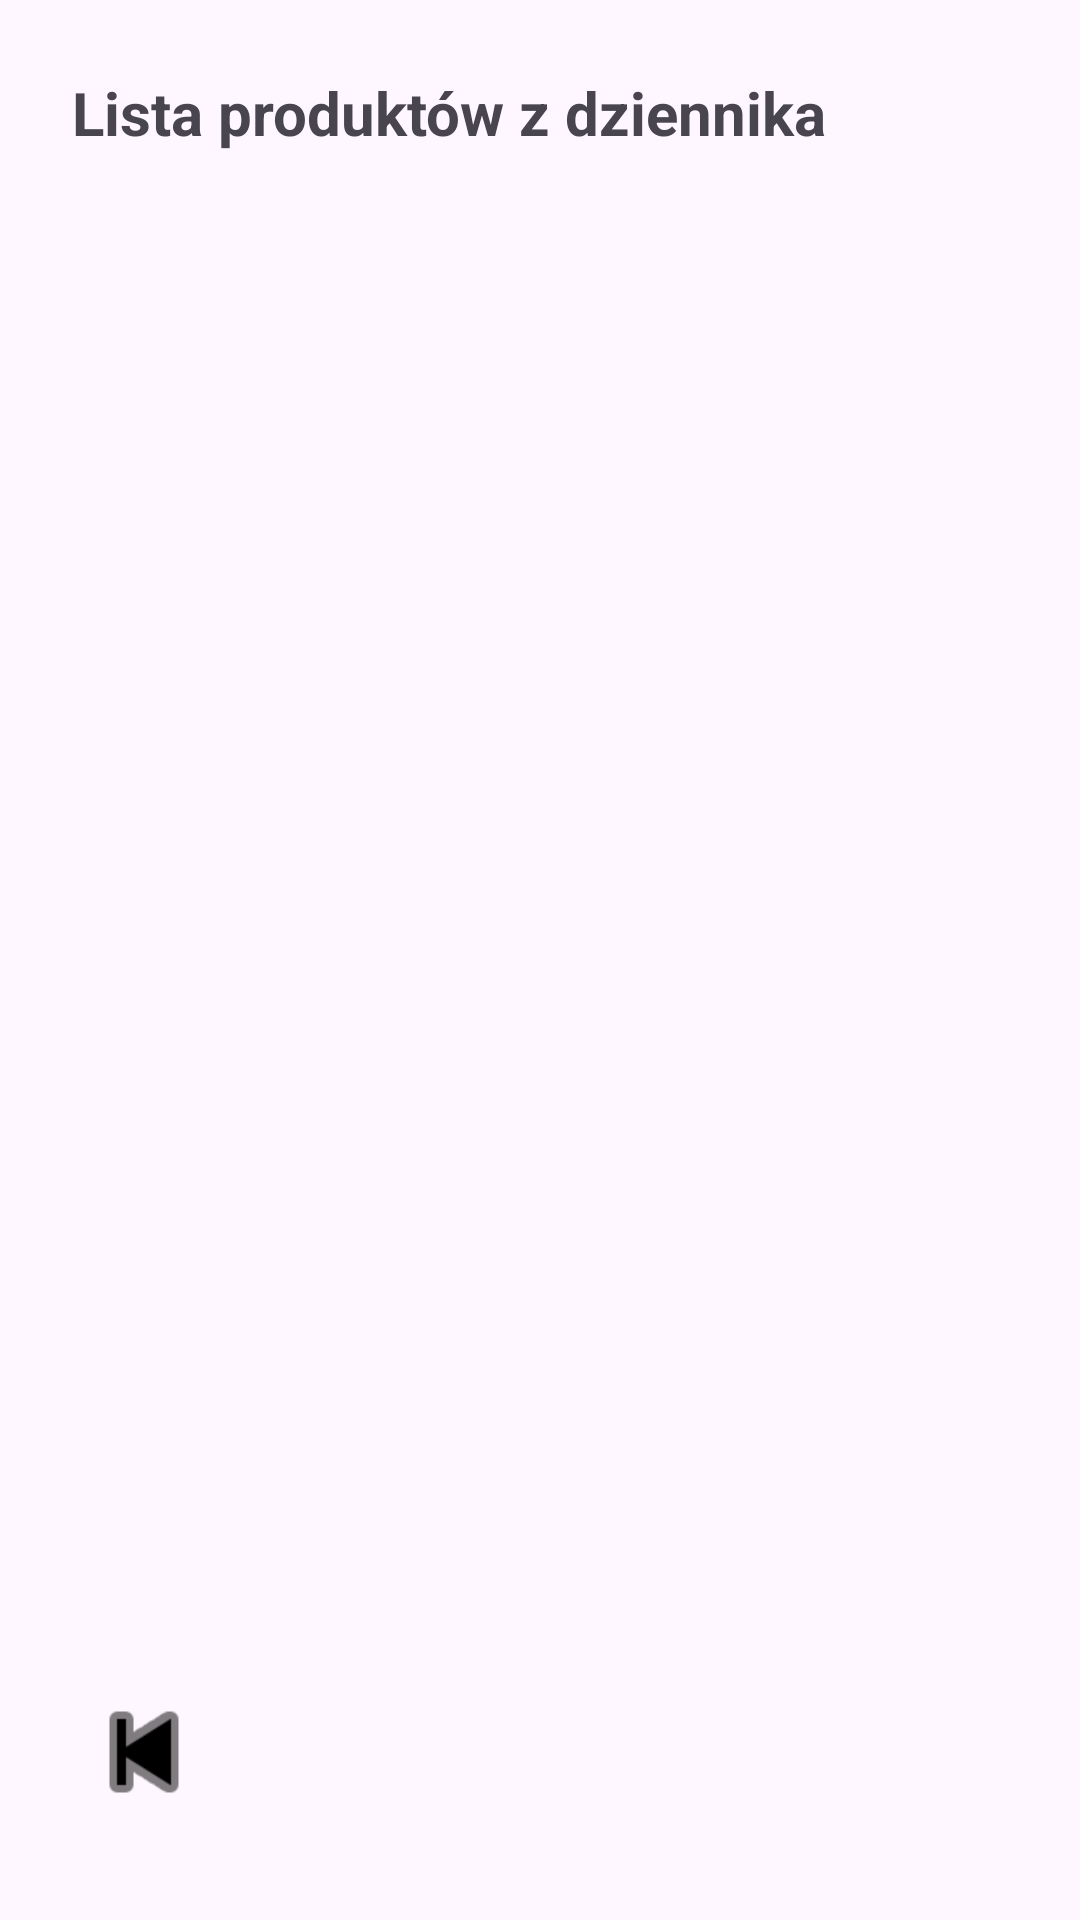

Icon bounding boxes for this 1080×1920 phone screenshot, format (x1, y1, x2, y2):
Powrót: (109, 1711, 179, 1793)
